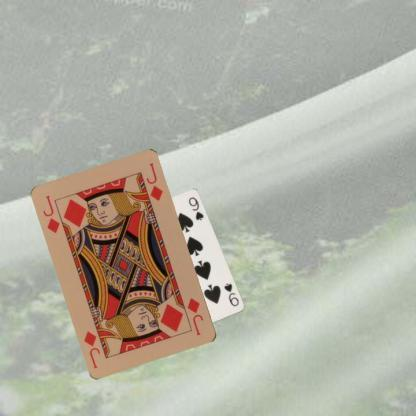9s: (222, 281, 240, 308)
Jd: (40, 192, 62, 235), (185, 296, 205, 338)
